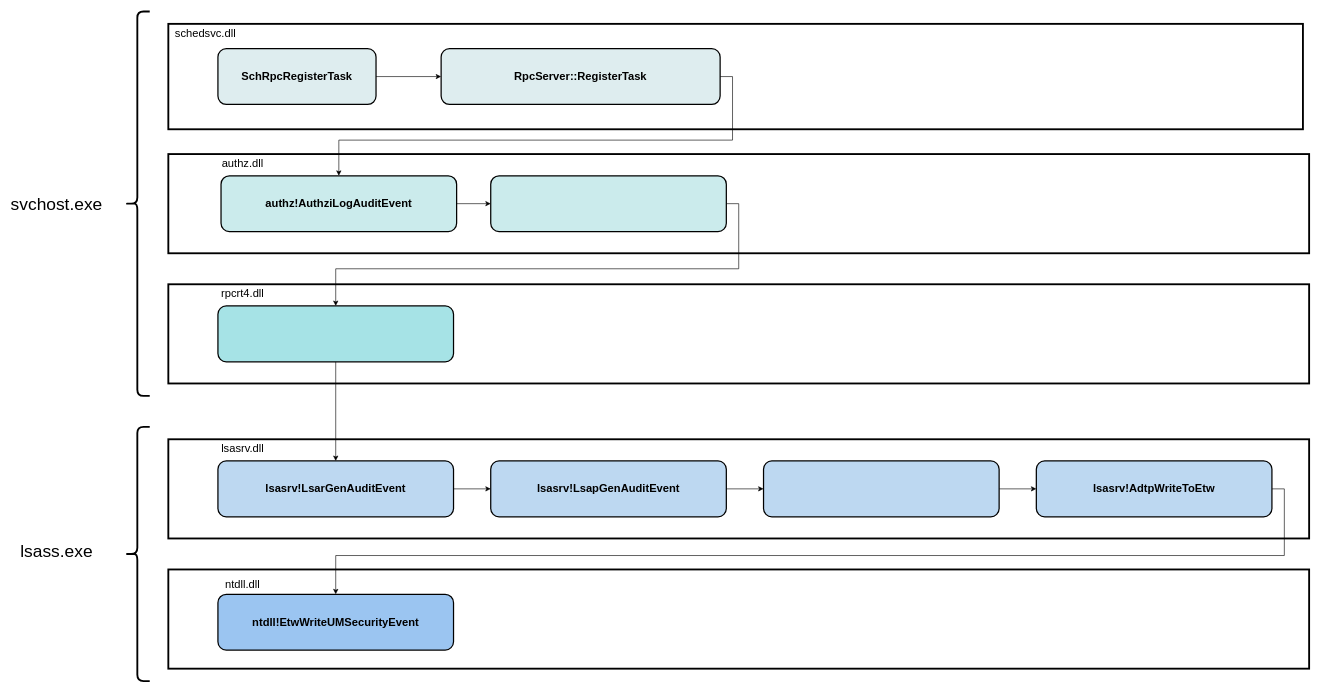
Image size: 1321x693. Some labels were removed from this diagram. The box of each missing label's shape, as (x1, y1, x2, y2) in pixels:
authz!AuthzpSendAuditToLsa: (490, 175, 727, 232)
lsasrv!LsapAdtWriteLogEx: (763, 460, 999, 517)
rpcrt4!NdrClientCall3: (217, 305, 454, 362)
